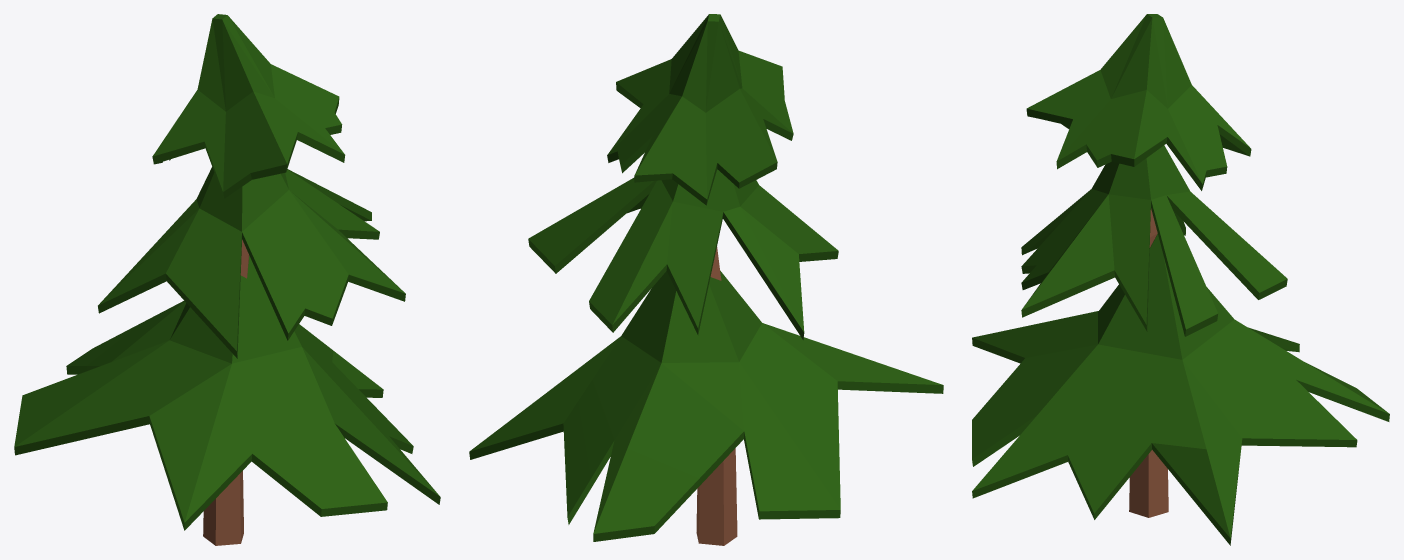
The model's file is tree_1.fbx.
3 renders of one model, left to right at view 1: azimuth 30°, elevation 25°; view 2: azimuth 150°, elevation 25°; view 3: azimuth 270°, elevation 25°, orthographic. The views are drawn at different scales.
Parts seen in each view (by area): view 1: tree_1.001; view 2: tree_1.001; view 3: tree_1.001.
Part boxes in pixels (bbox=[...]): tree_1.001: bbox=[14, 14, 440, 545]; tree_1.001: bbox=[469, 14, 943, 545]; tree_1.001: bbox=[972, 14, 1389, 545].
Bounding box in the file's own units: 280 × 377 × 289.
